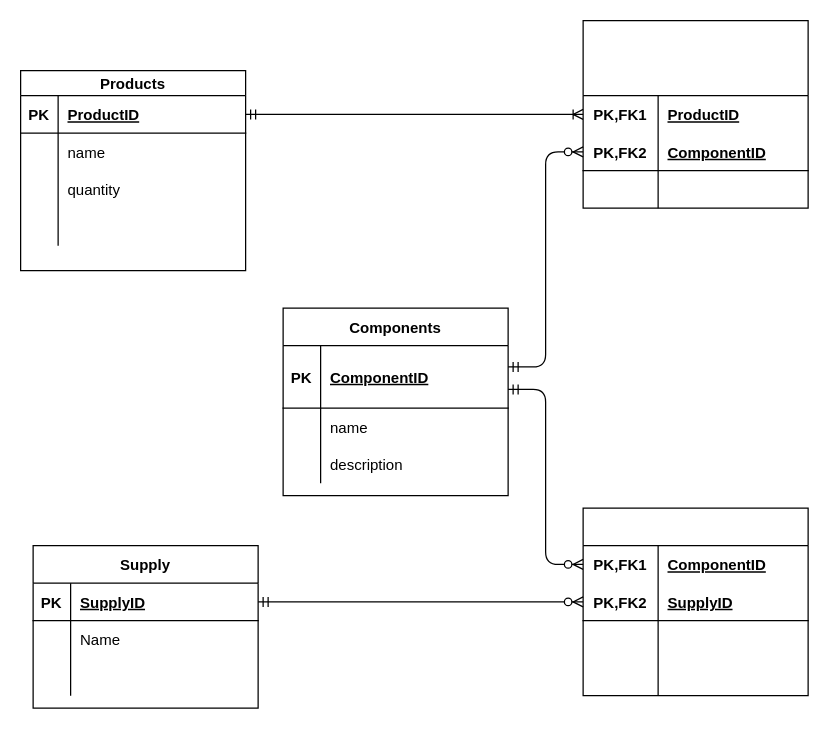
Image size: 829x729. Some labels were removed from this diagram. The shapes that lost their labels are listed below. From the top down, each one's box as (x1, y1, x2, y2) in pixels, then its label:
(582, 19, 808, 208): ProductComponet
(582, 507, 808, 696): ComponentSupply
